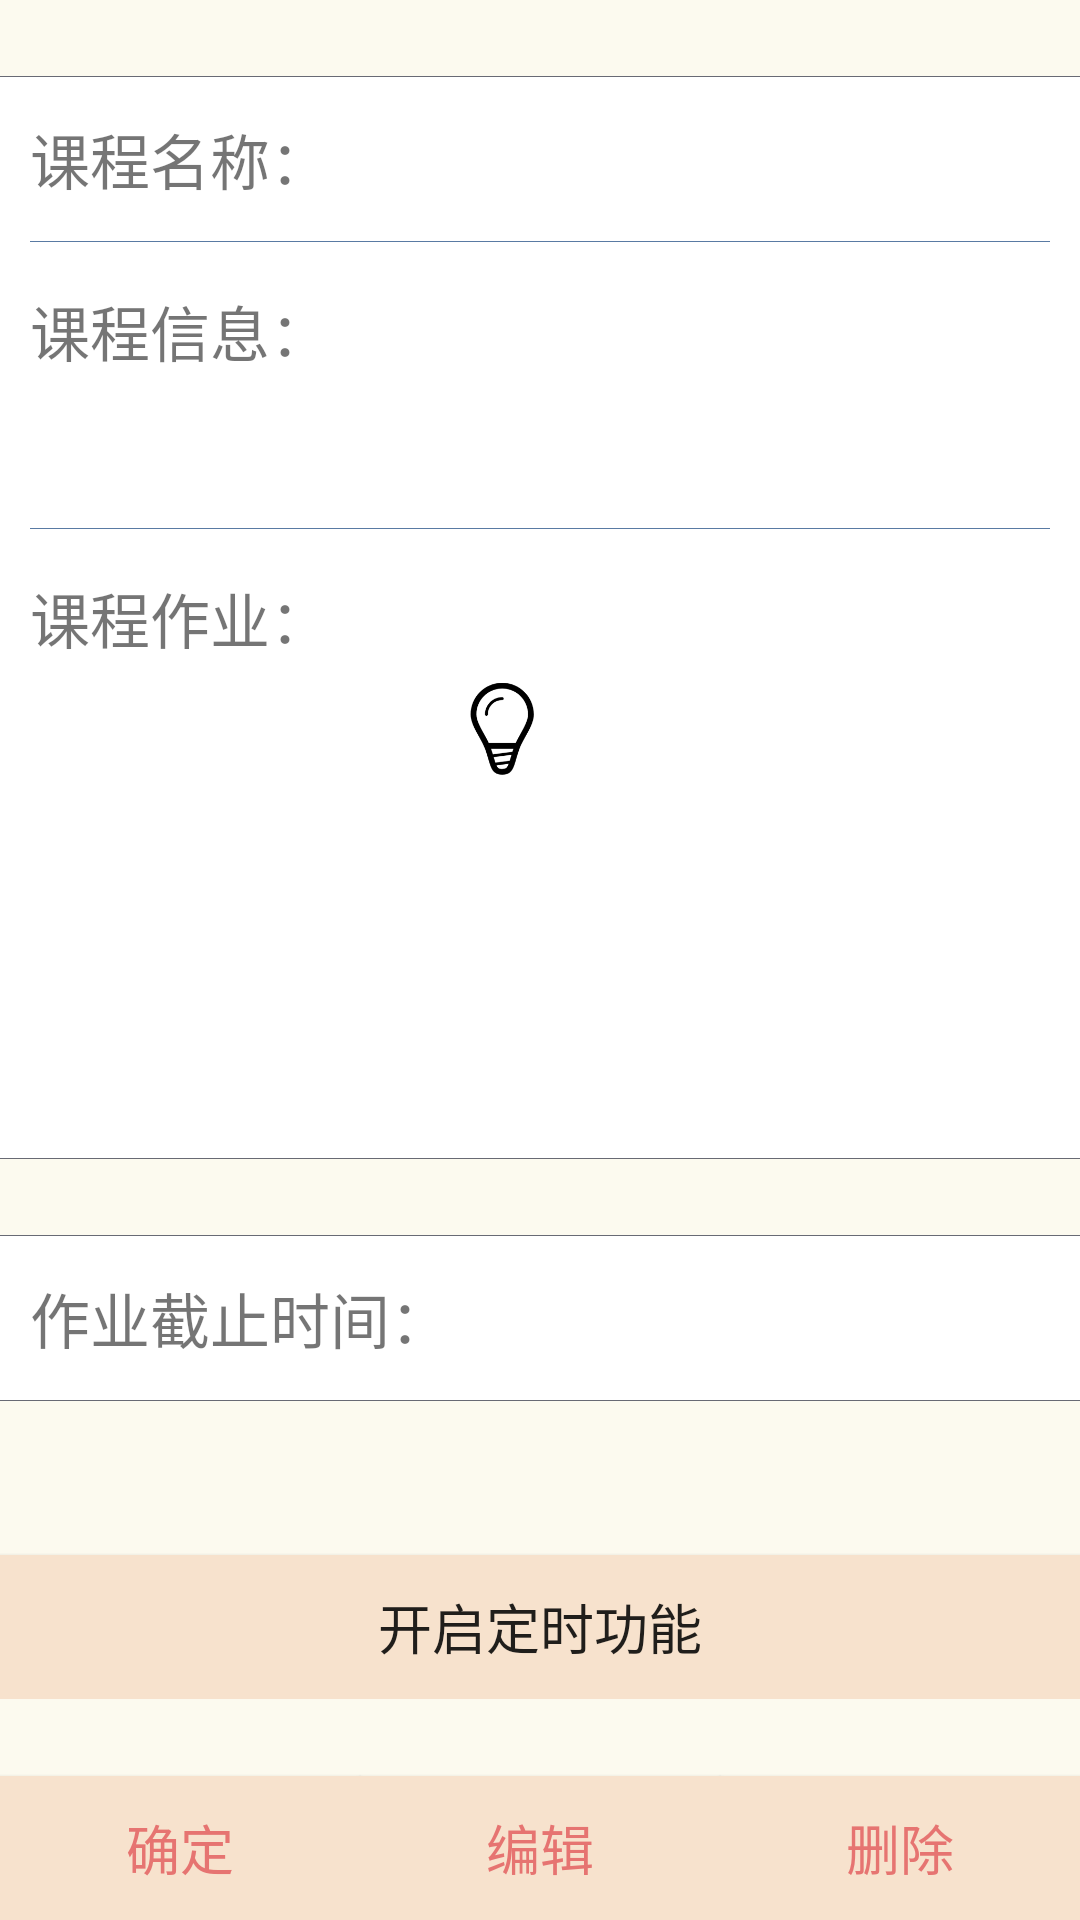

Screen size 1080 × 1920. Icon name, then its box in pixels as (x1, y1, x2, y2):
lamp: (470, 683, 534, 775)
